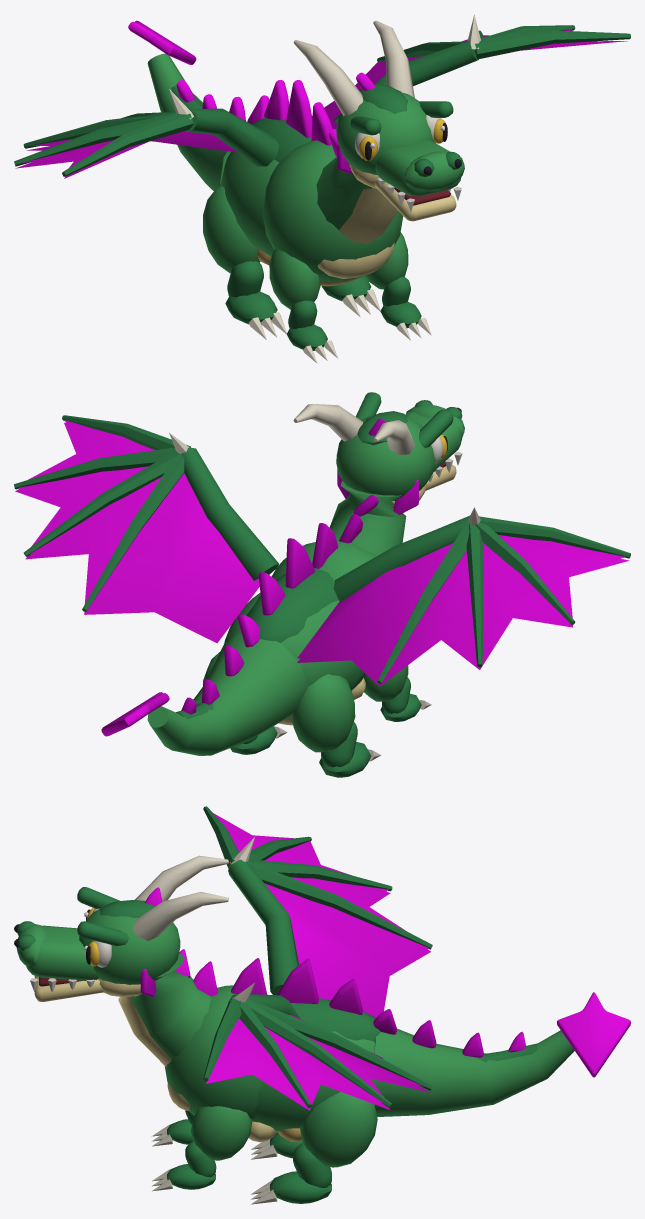
Rendered from dragao.glb.
3 views of the same model, one above another, from view 1: azimuth 30°, elevation 25°; view 2: azimuth 150°, elevation 25°; view 3: azimuth 270°, elevation 25° (orthographic). The views are drawn at different scales.
Parts seen in each view (by area): view 1: corpo, cabeca, asa_d, asa_e, cauda; view 2: asa_e, asa_d, corpo, cauda, cabeca; view 3: corpo, asa_d, cabeca, cauda, asa_e.
Part boxes in pixels (x1,y1,x2,y2): corpo: (203, 80, 431, 363); cabeca: (293, 20, 464, 221); asa_d: (14, 89, 279, 178); asa_e: (312, 14, 630, 129); cauda: (128, 20, 245, 190); asa_e: (14, 415, 278, 643); asa_d: (297, 507, 630, 686); corpo: (203, 481, 431, 777); cauda: (101, 633, 307, 755); cabeca: (293, 392, 464, 514); corpo: (118, 949, 396, 1204); asa_d: (203, 806, 432, 1017); cabeca: (14, 855, 228, 1001); cauda: (370, 992, 630, 1116); asa_e: (203, 983, 432, 1110).
Bounding box in the file's own units: 2.85 × 1.49 × 2.73.
